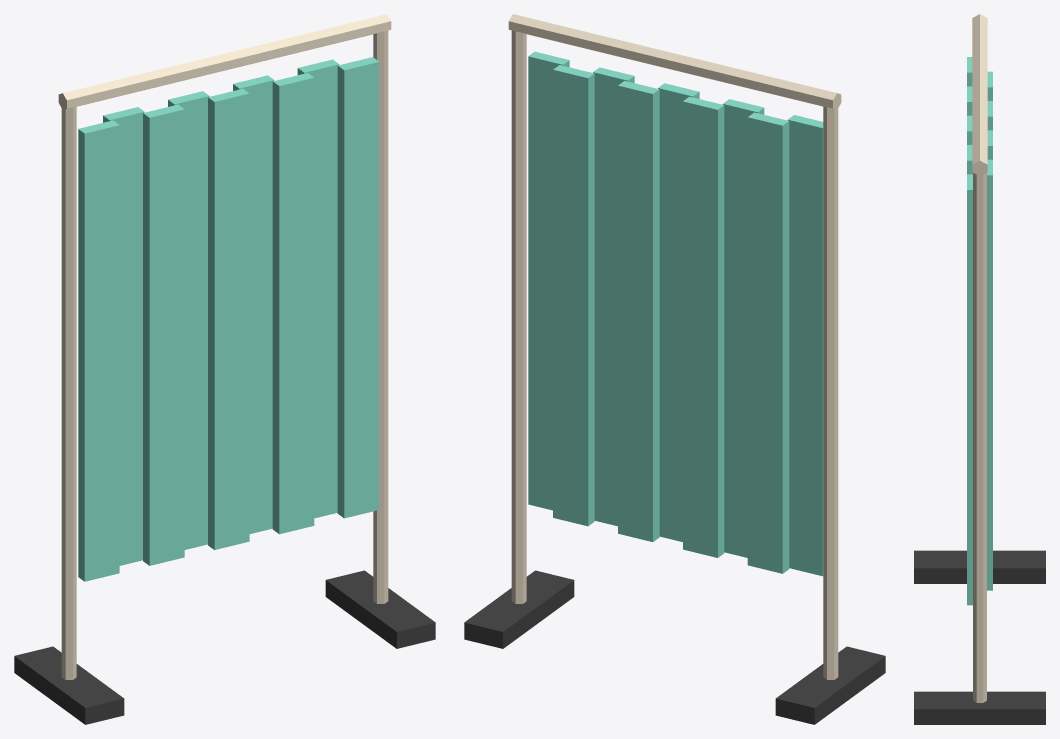
3 renders of one model, left to right at view 1: azimuth 30°, elevation 25°; view 2: azimuth 150°, elevation 25°; view 3: azimuth 270°, elevation 25°, orthographic. The views are drawn at different scales.
Visible parts, largest first — view 1: Pleated privacy fabric.006, Pleated privacy fabric.008, Pleated privacy fabric, Pleated privacy fabric.002, Pleated privacy fabric.004, Pleated privacy fabric.007, Pleated privacy fabric.001, Pleated privacy fabric.005, Pleated privacy fabric.003, Curtain upright, Curtain upright.001, Curtain rail (+2 smaller); view 2: Pleated privacy fabric.001, Pleated privacy fabric.007, Pleated privacy fabric.005, Pleated privacy fabric.003, Pleated privacy fabric, Pleated privacy fabric.008, Pleated privacy fabric.002, Pleated privacy fabric.004, Pleated privacy fabric.006, Curtain upright, Curtain upright.001, Curtain rail (+2 smaller); view 3: Curtain upright.001, Curtain foot.001, Curtain foot, Pleated privacy fabric.008, Pleated privacy fabric.007, Curtain rail.
Part boxes in pixels (left/top/right/bottom): Pleated privacy fabric.006: left=272, top=73, right=314, bottom=534; Pleated privacy fabric.008: left=337, top=57, right=379, bottom=518; Pleated privacy fabric: left=78, top=120, right=119, bottom=581; Pleated privacy fabric.002: left=143, top=104, right=184, bottom=565; Pleated privacy fabric.004: left=208, top=88, right=249, bottom=549; Pleated privacy fabric.007: left=297, top=59, right=339, bottom=518; Pleated privacy fabric.001: left=103, top=107, right=144, bottom=565; Pleated privacy fabric.005: left=233, top=75, right=274, bottom=533; Pleated privacy fabric.003: left=168, top=91, right=209, bottom=549; Curtain upright: left=61, top=106, right=76, bottom=679; Curtain upright.001: left=373, top=30, right=388, bottom=603; Curtain rail: left=58, top=14, right=391, bottom=109; Pleated privacy fabric.001: left=747, top=112, right=789, bottom=573; Pleated privacy fabric.007: left=553, top=65, right=594, bottom=526; Pleated privacy fabric.005: left=618, top=81, right=659, bottom=541; Pleated privacy fabric.003: left=683, top=96, right=724, bottom=557; Pleated privacy fabric: left=787, top=115, right=823, bottom=576; Pleated privacy fabric.008: left=528, top=51, right=569, bottom=510; Pleated privacy fabric.002: left=722, top=99, right=764, bottom=557; Pleated privacy fabric.004: left=658, top=83, right=699, bottom=541; Pleated privacy fabric.006: left=593, top=67, right=634, bottom=526; Curtain upright: left=823, top=106, right=838, bottom=679; Curtain upright.001: left=511, top=30, right=526, bottom=603; Curtain rail: left=508, top=14, right=841, bottom=109; Curtain upright.001: left=973, top=173, right=986, bottom=702; Curtain foot.001: left=914, top=691, right=1045, bottom=724; Curtain foot: left=914, top=550, right=1045, bottom=583; Pleated privacy fabric.008: left=967, top=174, right=972, bottom=605; Pleated privacy fabric.007: left=987, top=159, right=992, bottom=590; Curtain rail: left=972, top=14, right=987, bottom=176.
Bounding box in the file's own units: 1.08 × 1.78 × 0.38.
Materials: 1 (1 with a texture image).
